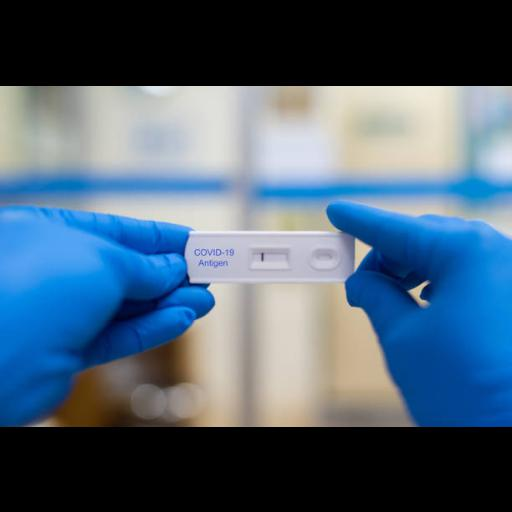Neg: (190, 230, 352, 280)
